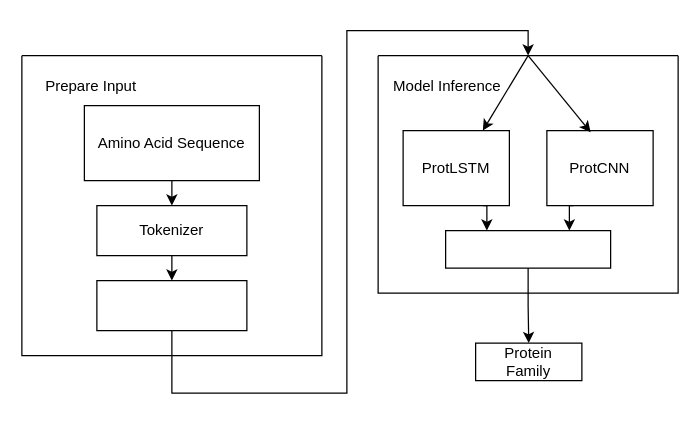
Some shapes in this 700 by 425 pixel diagram are drawn without their labels. Here are the shapes that lost their labels. From the top down, the centre of each, then its label:
At [527,248]: "Linear Ensemble".
At [171,305]: "One Hot Encoding".
